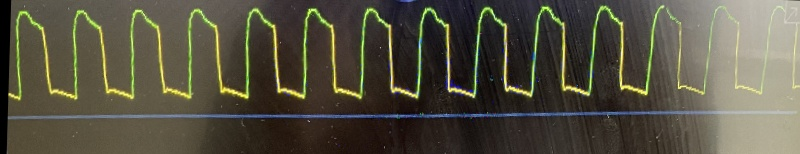normal_pressure: (7, 0, 781, 111)
